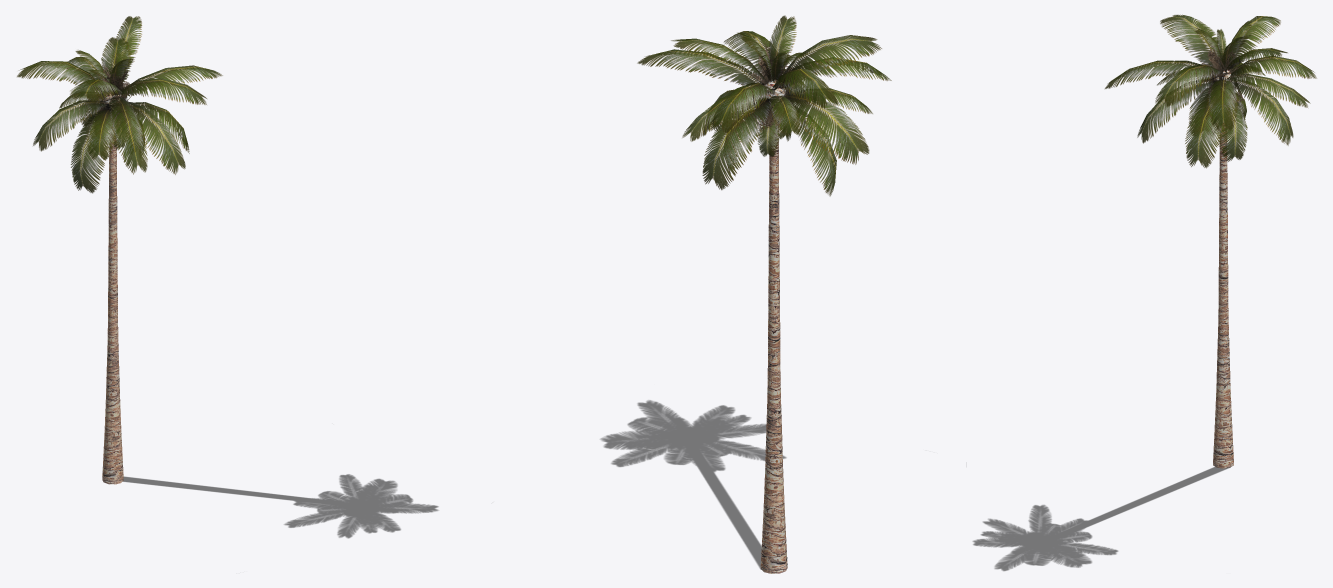
Rendered from palmeira.obj.
3 views of the same model, side by side, from view 1: azimuth 30°, elevation 25°; view 2: azimuth 150°, elevation 25°; view 3: azimuth 270°, elevation 25° (orthographic). The views are drawn at different scales.
Visible parts, largest first — view 1: palm_tree_Untitled, Plane; view 2: palm_tree_Untitled, Plane; view 3: palm_tree_Untitled, Plane.
Part boxes in pixels (bbox=[...]): palm_tree_Untitled: bbox=[17, 16, 222, 484]; Plane: bbox=[123, 474, 438, 538]; palm_tree_Untitled: bbox=[637, 15, 891, 573]; Plane: bbox=[600, 400, 786, 568]; palm_tree_Untitled: bbox=[1105, 14, 1316, 468]; Plane: bbox=[973, 467, 1228, 570].
Bounding box in the file's own units: 3.19 × 4.4 × 3.22.
2 materials, 2 textured.
